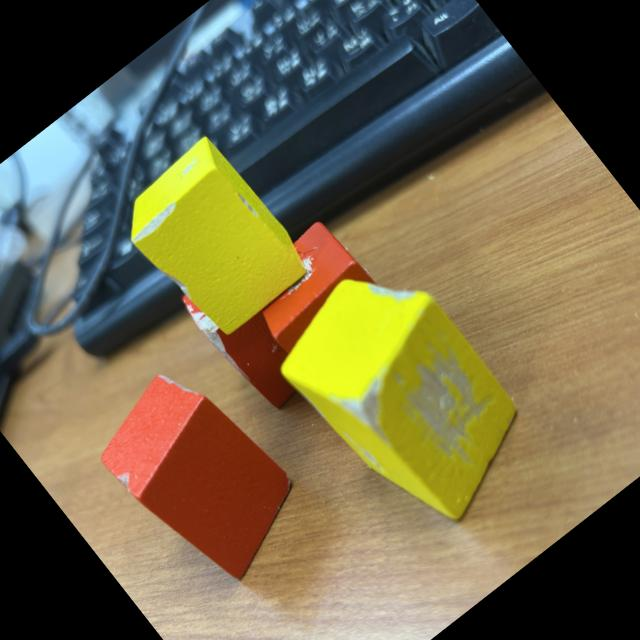broken: (258, 242, 551, 552), (81, 350, 322, 602), (107, 131, 316, 347), (234, 215, 426, 417), (175, 235, 349, 418)
